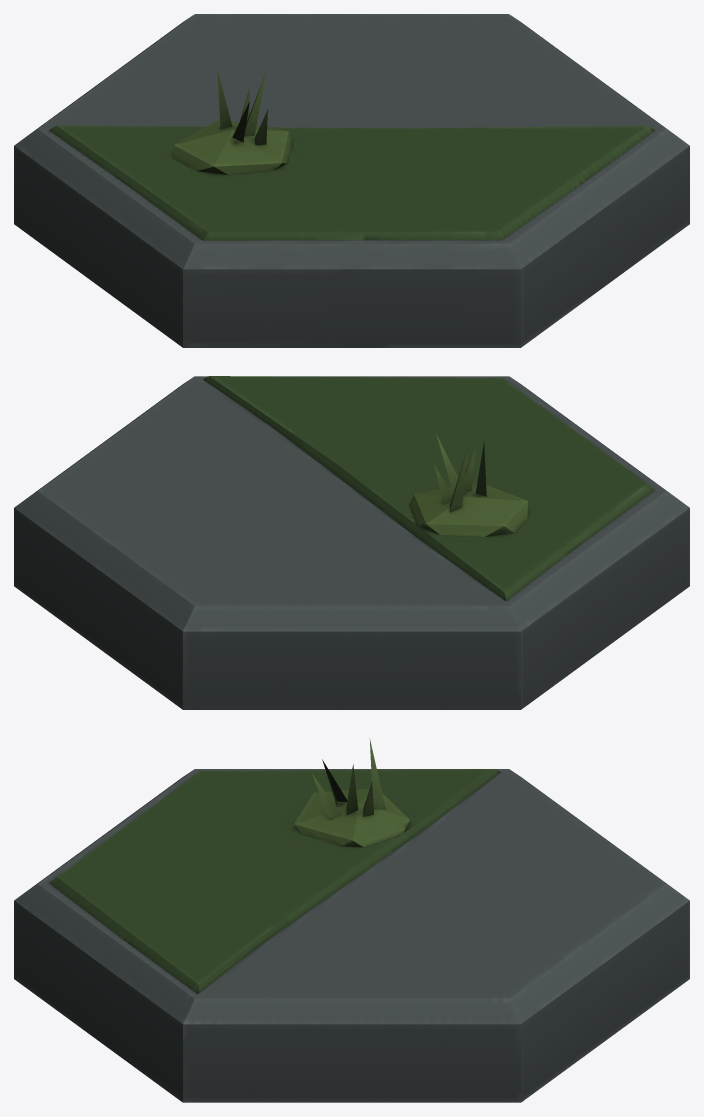
File: tile_hex_moss_b.glb
3 views of the same model, one above another, from view 1: azimuth 30°, elevation 25°; view 2: azimuth 150°, elevation 25°; view 3: azimuth 270°, elevation 25° (orthographic).
Visible parts, largest first — view 1: tile_hex_moss_b; view 2: tile_hex_moss_b; view 3: tile_hex_moss_b.
Boxes of the visible parts, left/top/right/bottom form: tile_hex_moss_b: left=14, top=14, right=689, bottom=347; tile_hex_moss_b: left=14, top=376, right=689, bottom=709; tile_hex_moss_b: left=14, top=738, right=689, bottom=1102.
Size of the model in its own units: 1.12 by 0.3773 by 1.29.
Materials: 1 (1 with a texture image).
